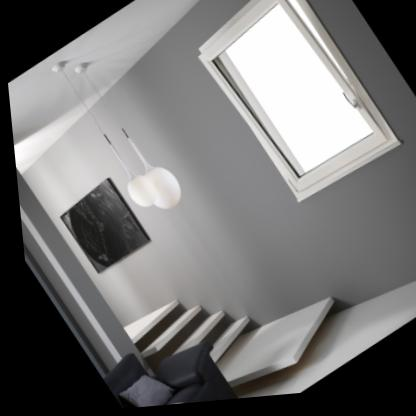Window: (190, 0, 398, 208)
